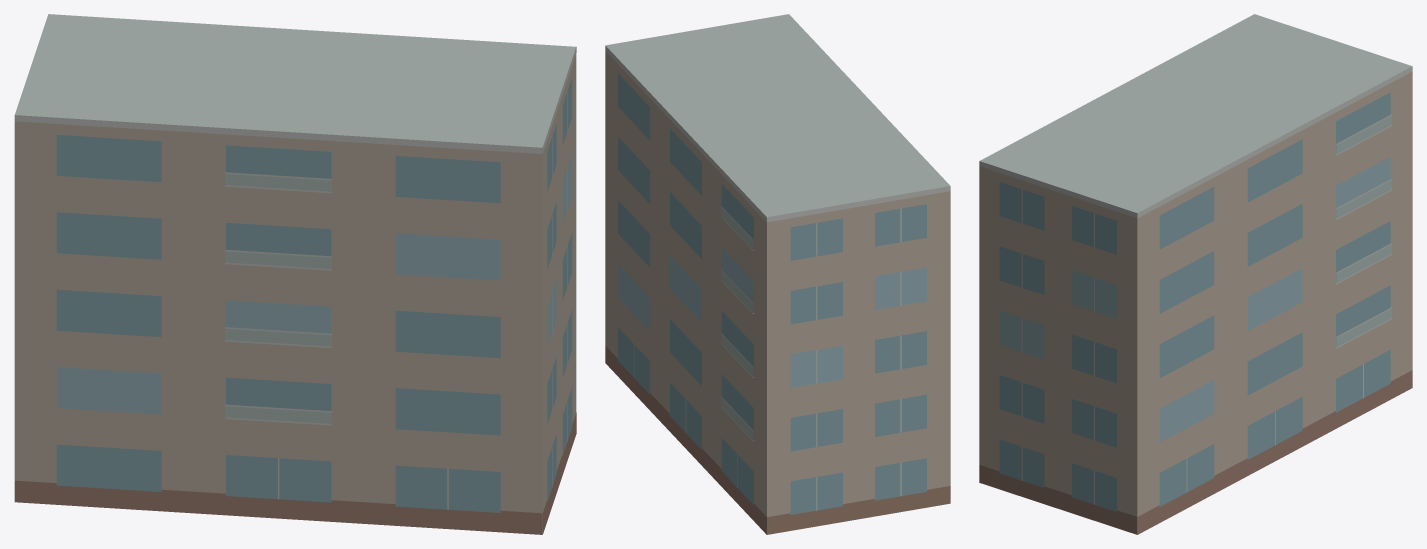
Rendered from survey-upis-32767497.glb.
The picture shows the model from 3 angles, left to right: view 1: azimuth 30°, elevation 25°; view 2: azimuth 150°, elevation 25°; view 3: azimuth 270°, elevation 25°; orthographic projection. The views are drawn at different scales.
Visible parts, largest first — view 1: survey-upis-32767497.tmp; view 2: survey-upis-32767497.tmp; view 3: survey-upis-32767497.tmp.
Part boxes in pixels (left/top/right/bottom): survey-upis-32767497.tmp: left=14, top=14, right=576, bottom=534; survey-upis-32767497.tmp: left=605, top=14, right=950, bottom=534; survey-upis-32767497.tmp: left=979, top=14, right=1412, bottom=534.
Bounding box in the file's own units: 20 × 15.05 × 18.38.
